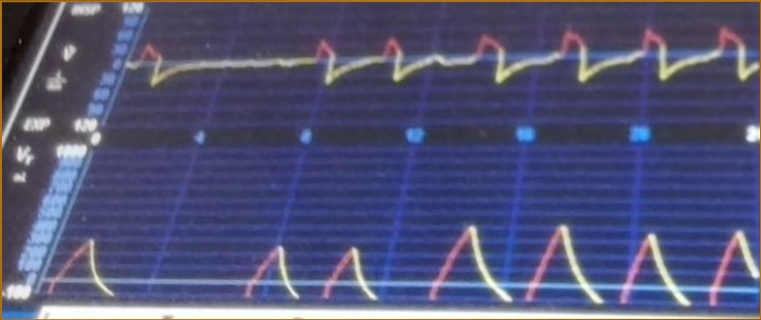Ineffective_effort Flow: (129, 14, 758, 108)
Ineffective_effort Volume: (47, 220, 760, 306)
